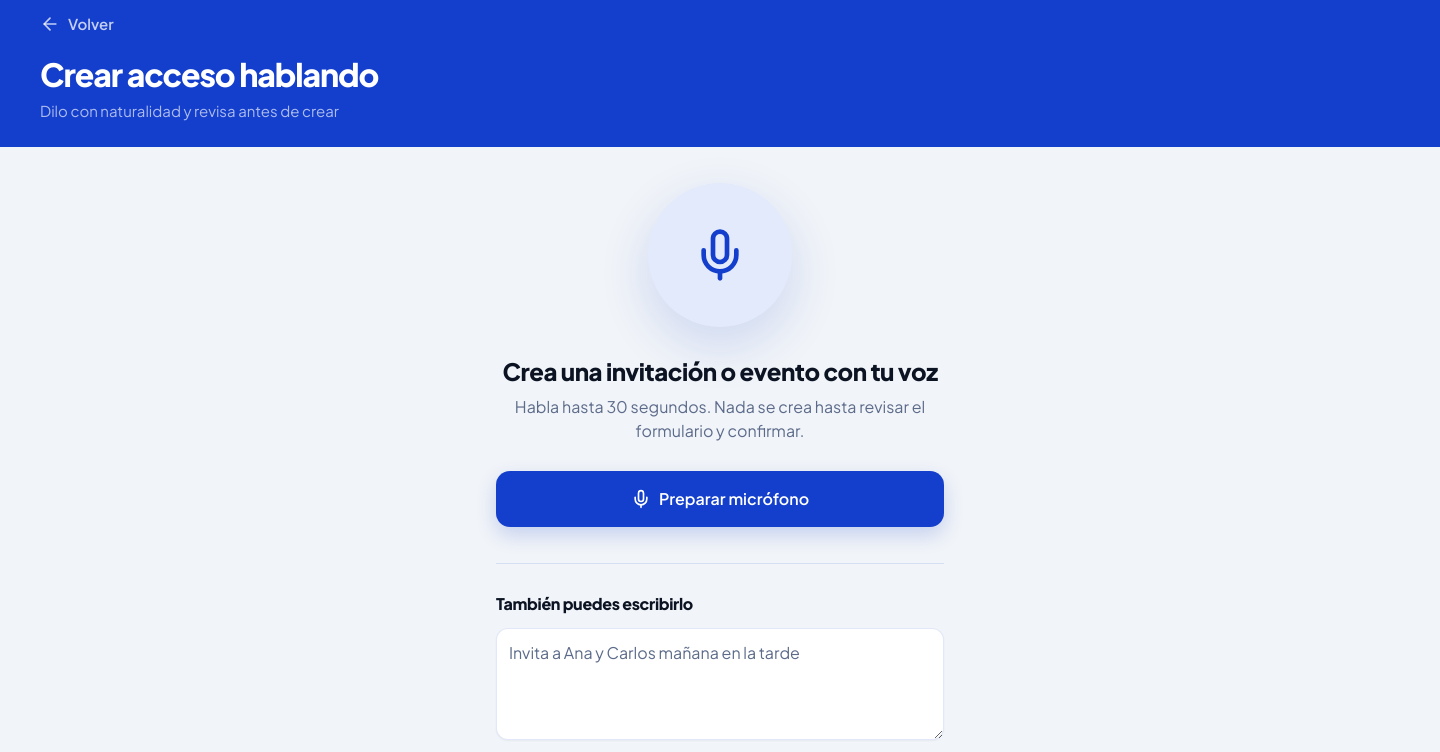
Test case: VoiceInvitation › un evento sin horario no muestra una selección falsa
Type "Crea una cena mañana" into the text box with placeholder "Invita a Ana y Carlos mañana en la tarde" at (720, 684), box top-left (496, 628), bottom-right (944, 740)
(page scrolled)
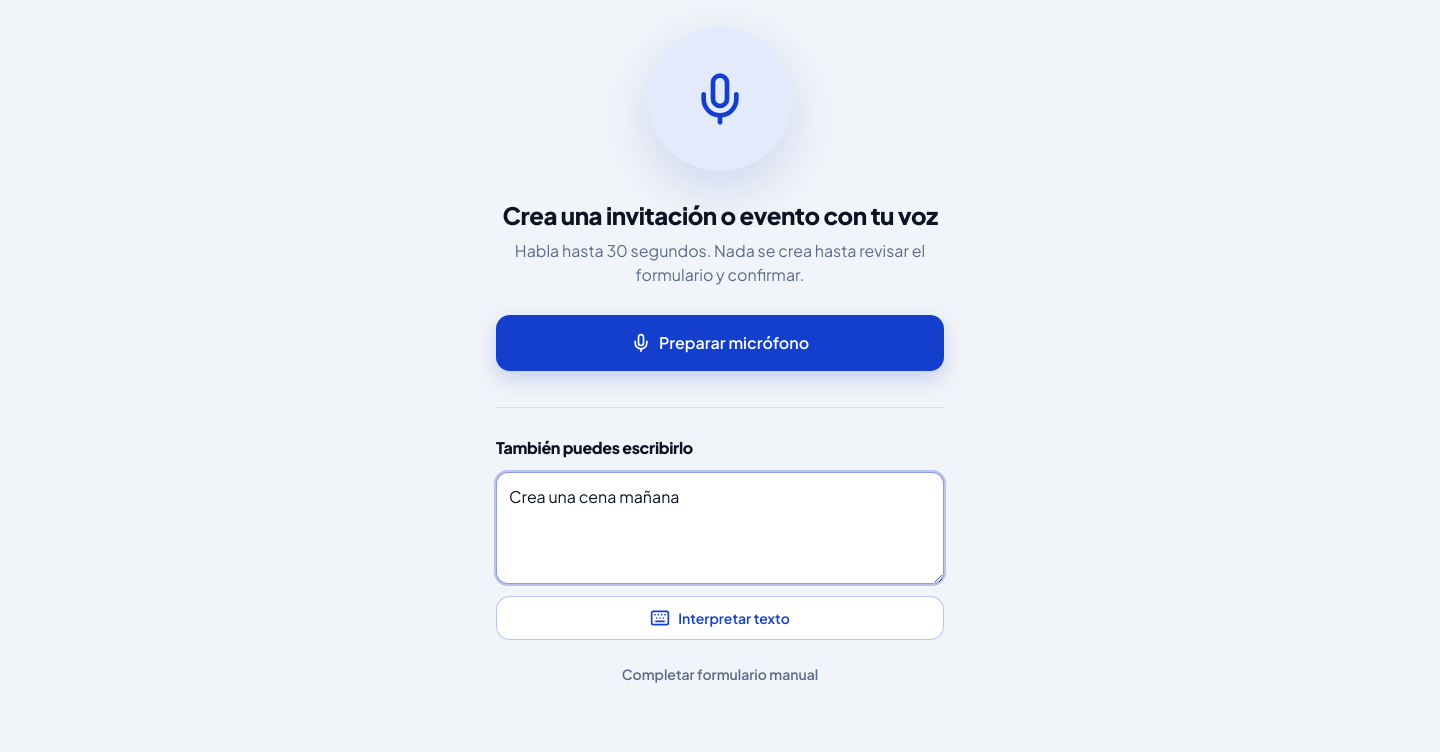
Click the button "Interpretar texto" at (720, 618), box top-left (496, 596), bottom-right (944, 640)
(page scrolled)
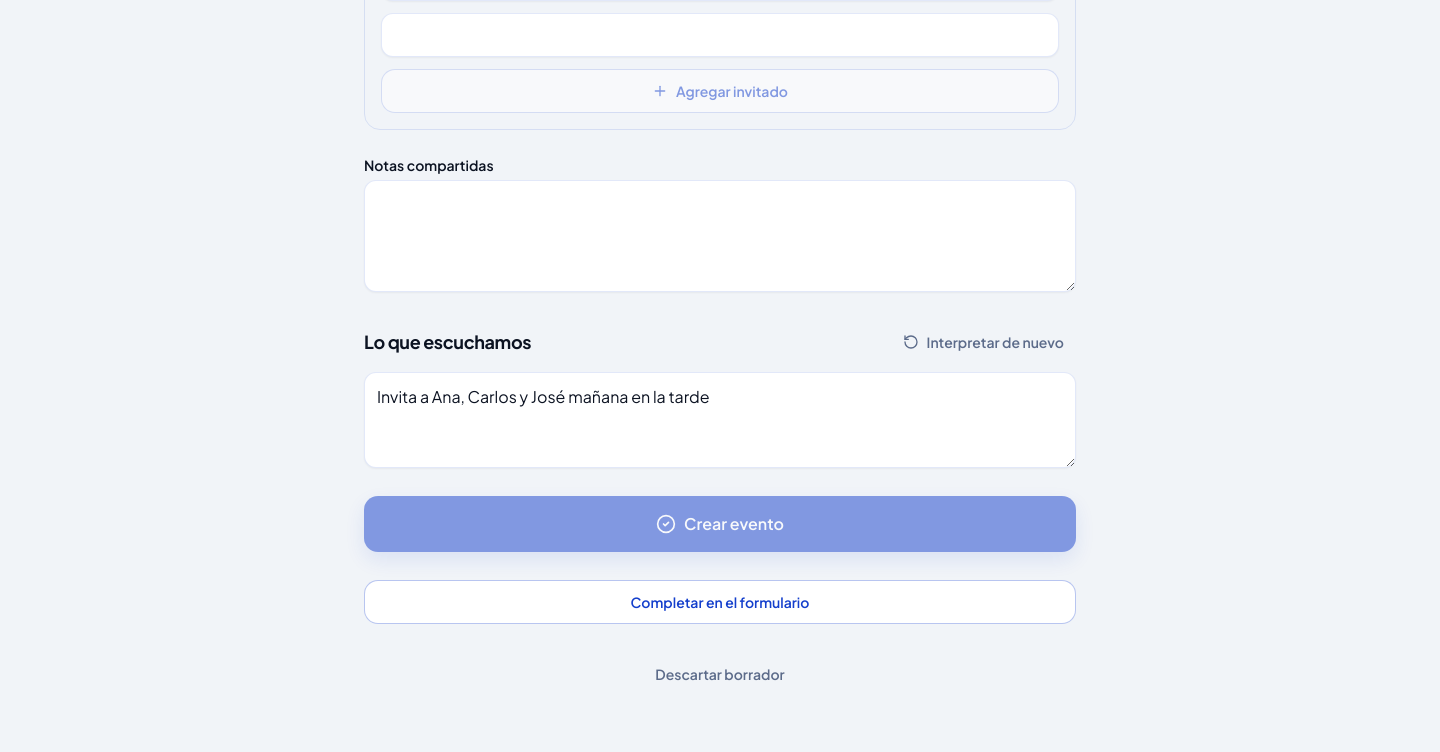
Expected: the button "Crear evento" is disabled, top-left (364, 496), bottom-right (1076, 552)
